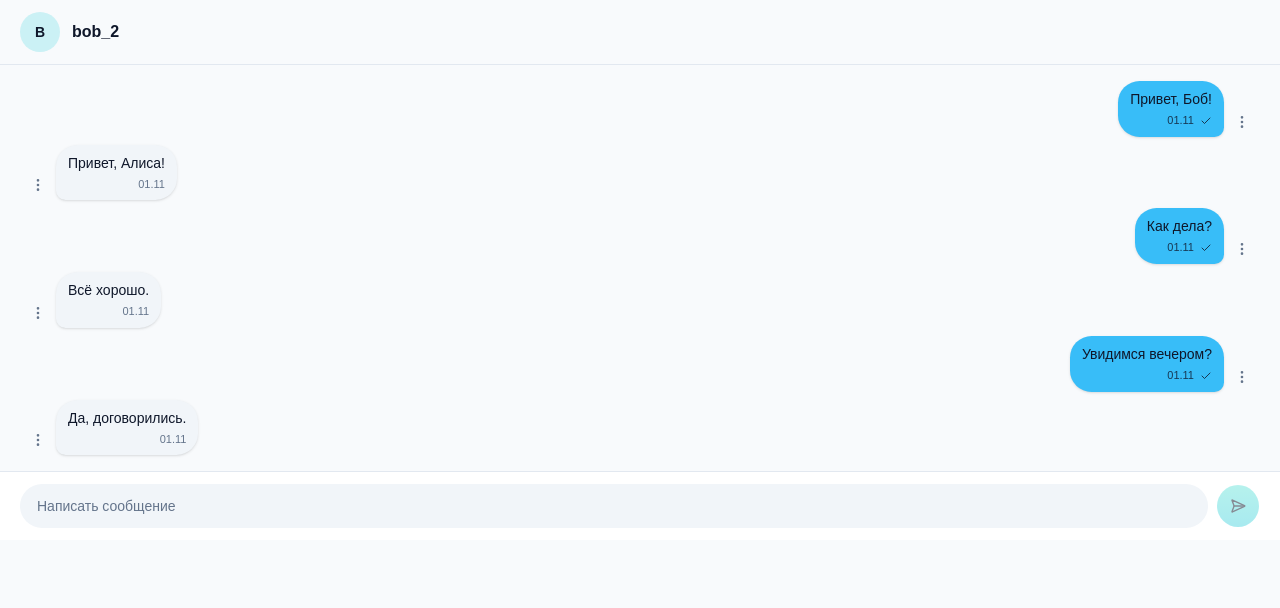
Scenario: ChatThread › sends a message over WebSocket and moves sending → sent
The image size is (1280, 608).
Expected: the text "Да, договорились." is shown, 68,408 -> 186,428
Type "новое из теста" into the field labelled "сообщение" at (614, 506), box 20,484 -> 1208,528
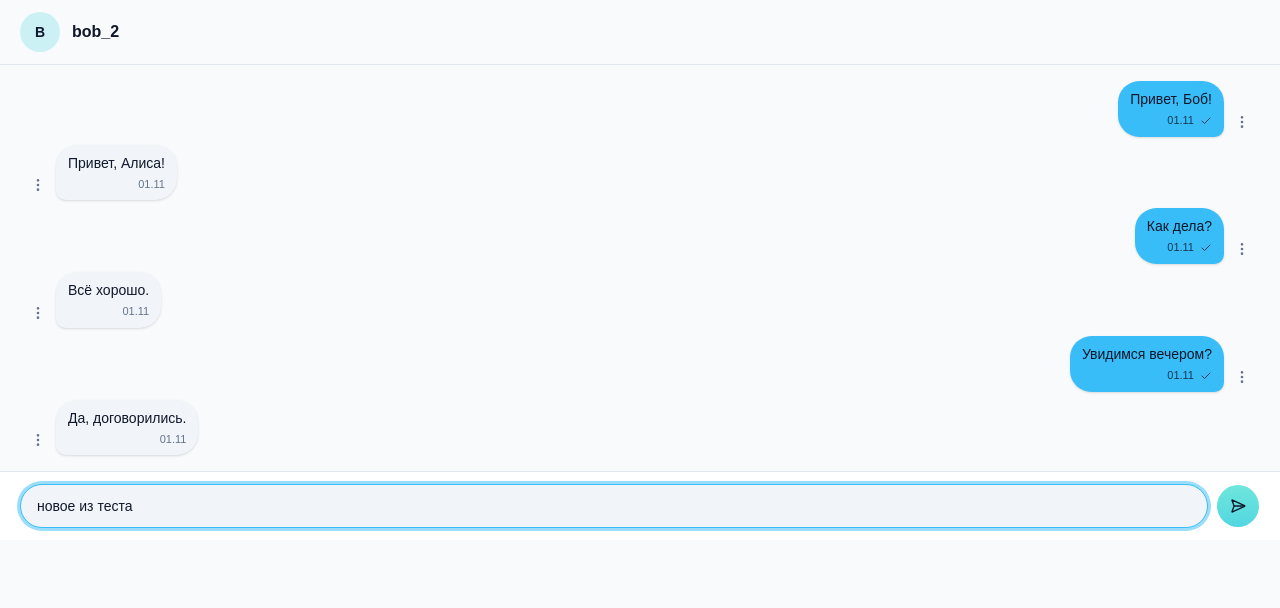
Click the button named "Отправить" at (1238, 506), box 1216,484 -> 1260,528
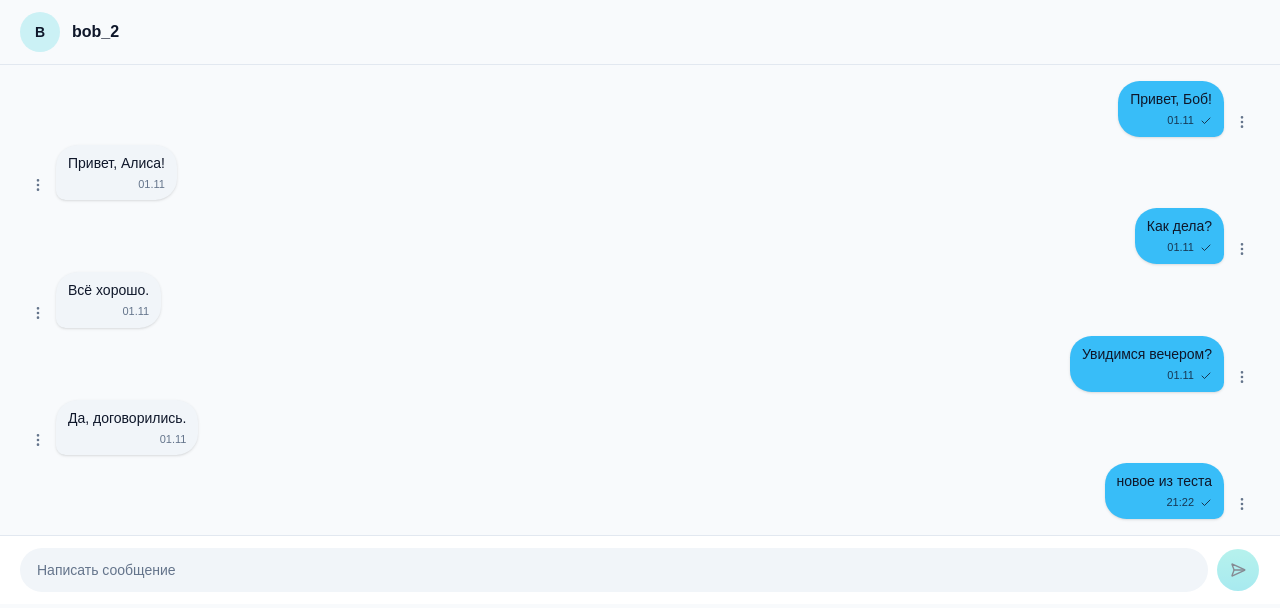
Expected: the list item "новое из теста" is shown, 1116,473 -> 1212,489
Expected: the text "новое из теста" is shown, 1116,471 -> 1212,491
